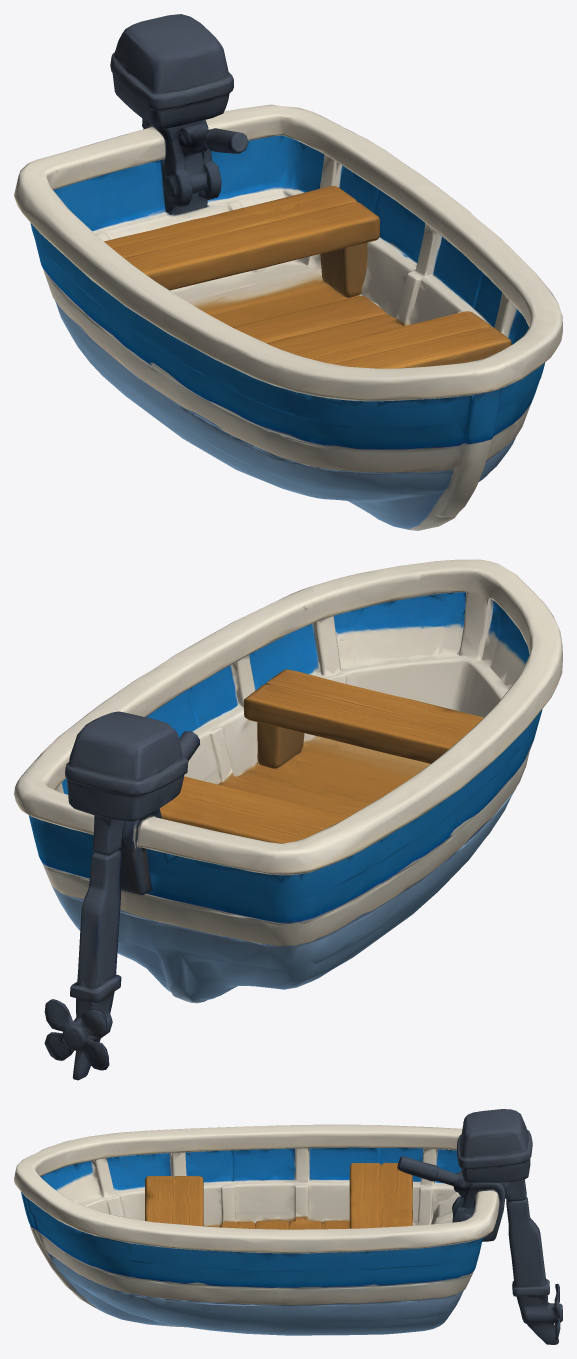
Rendered from runtime.glb.
3 views of the same model, one above another, from view 1: azimuth 30°, elevation 25°; view 2: azimuth 150°, elevation 25°; view 3: azimuth 270°, elevation 25° (orthographic). The views are drawn at different scales.
Parts seen in each view (by area): view 1: tripo_node_ecd0dfdd-019b-4097-ab71-0ad6b2638efe; view 2: tripo_node_ecd0dfdd-019b-4097-ab71-0ad6b2638efe; view 3: tripo_node_ecd0dfdd-019b-4097-ab71-0ad6b2638efe.
Boxes of the visible parts, box(x1,y1,x2,y2) form: tripo_node_ecd0dfdd-019b-4097-ab71-0ad6b2638efe: box(14, 14, 562, 530); tripo_node_ecd0dfdd-019b-4097-ab71-0ad6b2638efe: box(14, 559, 562, 1080); tripo_node_ecd0dfdd-019b-4097-ab71-0ad6b2638efe: box(14, 1109, 562, 1344).
Bounding box in the file's own units: 0.4953 × 0.4521 × 1.
1 material, 1 textured.
